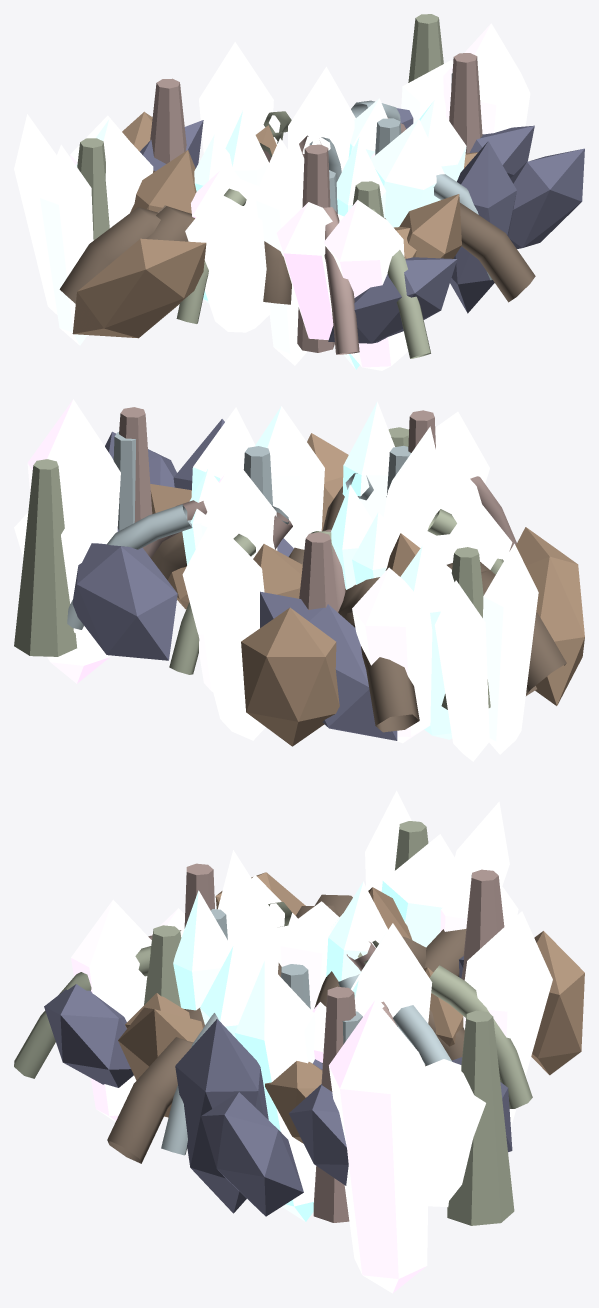
The model's file is ambient-clusters.glb.
The picture shows the model from 3 angles, top to bottom: view 1: azimuth 30°, elevation 25°; view 2: azimuth 150°, elevation 25°; view 3: azimuth 270°, elevation 25°; orthographic projection. The views are drawn at different scales.
Parts seen in each view (by area): view 1: STONE_PROP_4.001, CRYSTAL_PROP_3.001, CRYSTAL_PROP_1.002, CRYSTAL_PROP_4.001, STONE_PROP_0, CRYSTAL_PROP_3.002, CRYSTAL_PROP_1.001, STONE_PROP_1, STONE_PROP_6, CRYSTAL_PROP_6.002, CRYSTAL_PROP_2, CRYSTAL_PROP_6.001 (+30 smaller); view 2: STONE_PROP_3.001, CRYSTAL_PROP_6.001, STONE_PROP_3, METAL_PROP_1.002, CRYSTAL_PROP_4.001, CRYSTAL_PROP_6.002, CRYSTAL_PROP_4.002, CRYSTAL_PROP_5.001, STONE_PROP_4.001, CRYSTAL_PROP_2, STONE_PROP_2, CRYSTAL_PROP_1.001 (+36 smaller); view 3: CRYSTAL_PROP_6.002, METAL_PROP_1.002, CRYSTAL_PROP_5, STONE_PROP_1, STONE_PROP_0, CRYSTAL_PROP_1.002, CRYSTAL_PROP_6.001, CRYSTAL_PROP_0.001, STONE_PROP_6, CRYSTAL_PROP_0, STONE_PROP_3.001, ORGANIC_PROP_5 (+28 smaller).
Boxes of the visible parts, x1,y1,x2,y2 form: STONE_PROP_4.001: [72, 238, 206, 338]; CRYSTAL_PROP_3.001: [185, 192, 270, 332]; CRYSTAL_PROP_1.002: [324, 200, 408, 370]; CRYSTAL_PROP_4.001: [40, 144, 93, 345]; STONE_PROP_0: [508, 148, 584, 248]; CRYSTAL_PROP_3.002: [276, 202, 343, 339]; CRYSTAL_PROP_1.001: [256, 138, 307, 365]; STONE_PROP_1: [450, 141, 516, 313]; STONE_PROP_6: [328, 257, 457, 343]; CRYSTAL_PROP_6.002: [443, 23, 530, 134]; CRYSTAL_PROP_2: [370, 119, 444, 227]; CRYSTAL_PROP_6.001: [199, 42, 273, 153]; STONE_PROP_3.001: [241, 607, 339, 746]; CRYSTAL_PROP_6.001: [182, 518, 265, 740]; STONE_PROP_3: [72, 543, 177, 660]; METAL_PROP_1.002: [14, 459, 76, 656]; CRYSTAL_PROP_4.001: [483, 543, 538, 754]; CRYSTAL_PROP_6.002: [27, 399, 120, 683]; CRYSTAL_PROP_4.002: [352, 567, 432, 743]; CRYSTAL_PROP_5.001: [434, 580, 489, 761]; STONE_PROP_4.001: [516, 527, 584, 705]; CRYSTAL_PROP_2: [255, 406, 324, 549]; STONE_PROP_2: [260, 591, 397, 740]; CRYSTAL_PROP_1.001: [383, 426, 445, 532]; CRYSTAL_PROP_6.002: [329, 1000, 429, 1293]; METAL_PROP_1.002: [447, 1010, 514, 1225]; CRYSTAL_PROP_5: [235, 960, 316, 1221]; STONE_PROP_1: [175, 1019, 268, 1213]; STONE_PROP_0: [201, 1092, 303, 1216]; CRYSTAL_PROP_1.002: [71, 899, 151, 1121]; CRYSTAL_PROP_6.001: [463, 911, 552, 1126]; CRYSTAL_PROP_0.001: [420, 1059, 485, 1206]; STONE_PROP_6: [44, 984, 133, 1087]; CRYSTAL_PROP_0: [381, 834, 461, 947]; STONE_PROP_3.001: [531, 931, 584, 1075]; ORGANIC_PROP_5: [107, 1037, 193, 1163].
Bounding box in the file's own units: 0.8351 × 0.4236 × 0.7311.
